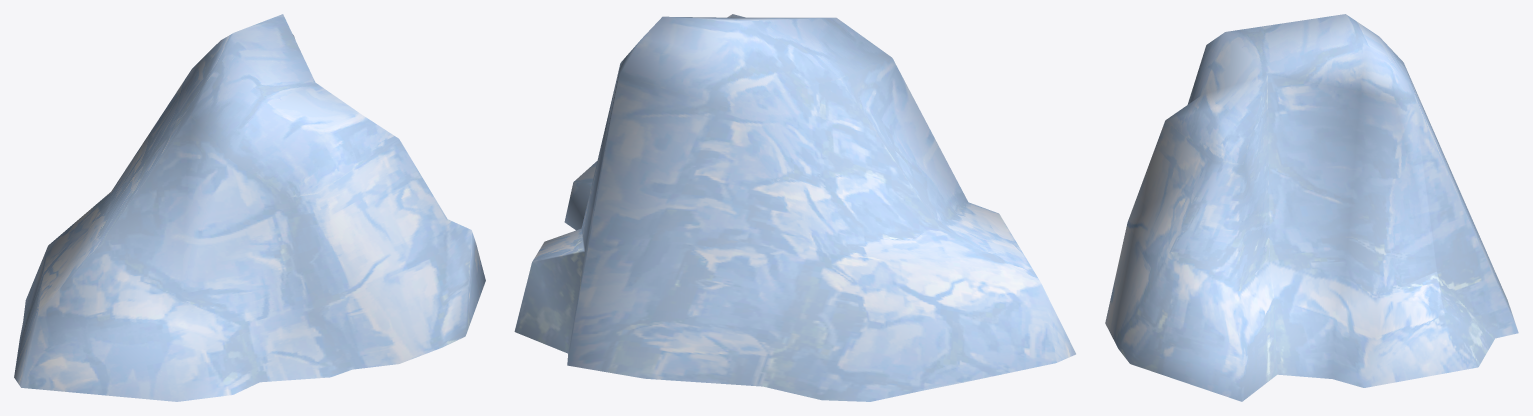
The model's file is hth_env_cover_ice02.glb.
3 renders of one model, left to right at view 1: azimuth 30°, elevation 25°; view 2: azimuth 150°, elevation 25°; view 3: azimuth 270°, elevation 25°, orthographic. The views are drawn at different scales.
Parts seen in each view (by area): view 1: hth_env_cover_ice02; view 2: hth_env_cover_ice02; view 3: hth_env_cover_ice02.
Part boxes in pixels (x1,y1,x2,y2): hth_env_cover_ice02: (14, 14, 485, 401); hth_env_cover_ice02: (514, 14, 1075, 401); hth_env_cover_ice02: (1105, 14, 1518, 401).
Bounding box in the file's own units: 0.2633 × 0.144 × 0.1918.
1 material, 1 textured.
